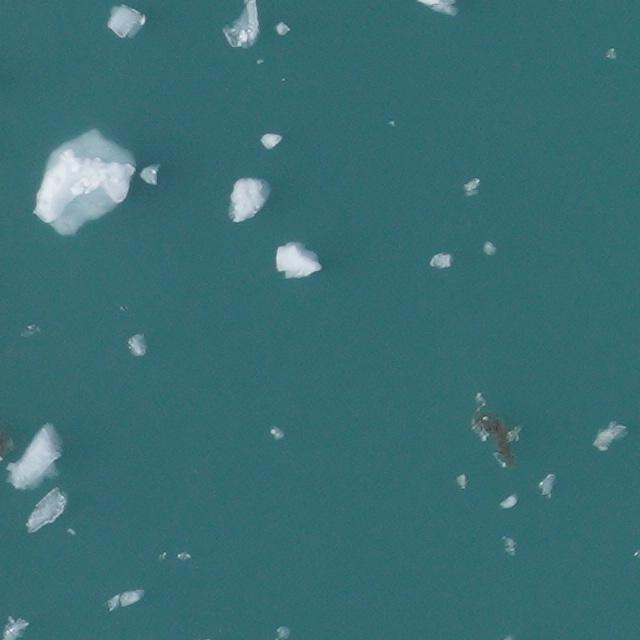seal: (464, 405, 527, 470)
